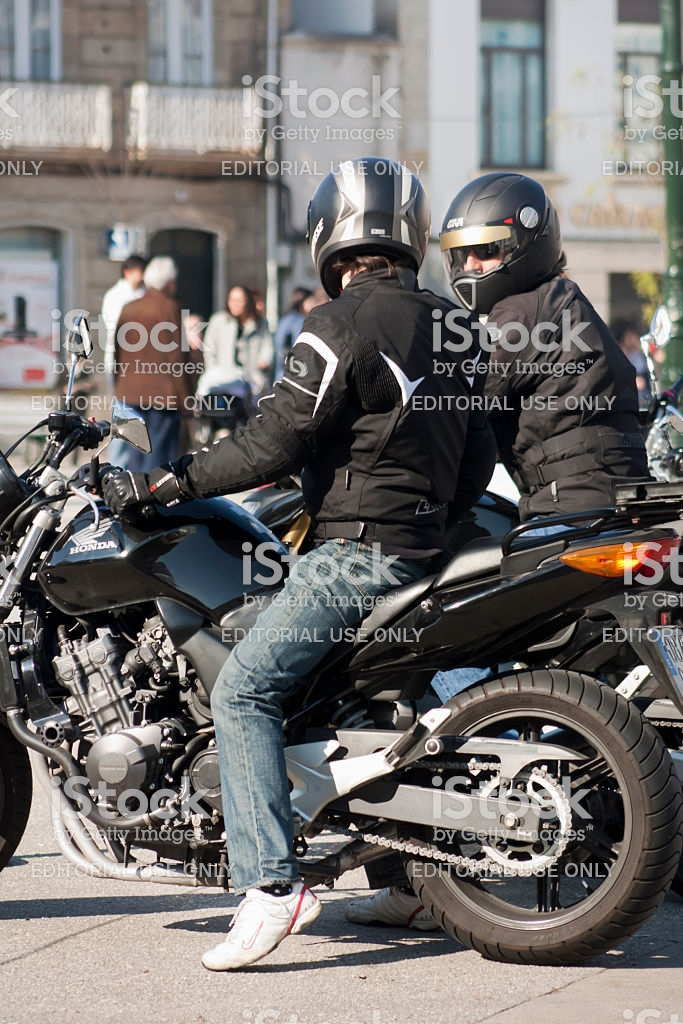helmet: (444, 171, 567, 296), (308, 164, 425, 257)
